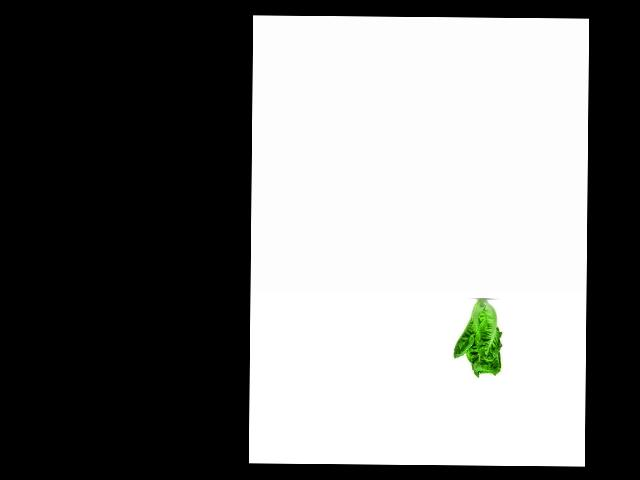lettuce: (453, 301, 505, 378)
